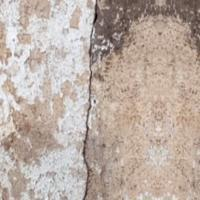crack: (79, 0, 108, 199)
